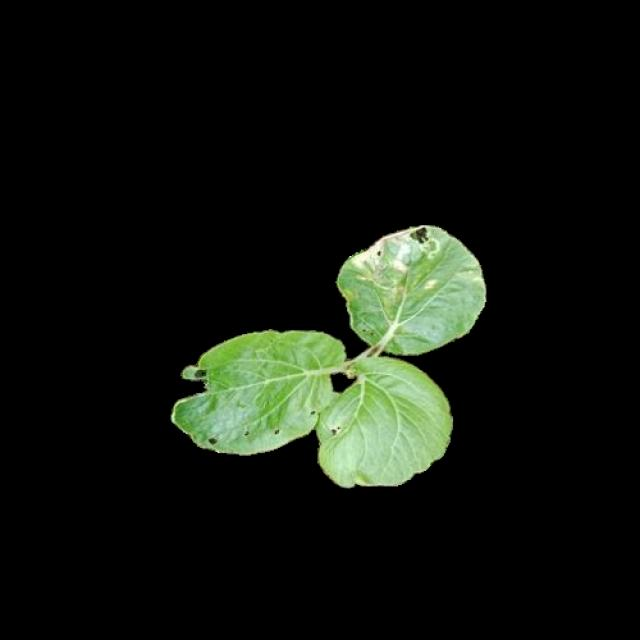not-mature: (172, 224, 485, 486)
unhealthy: (172, 328, 346, 452), (339, 227, 485, 357)
